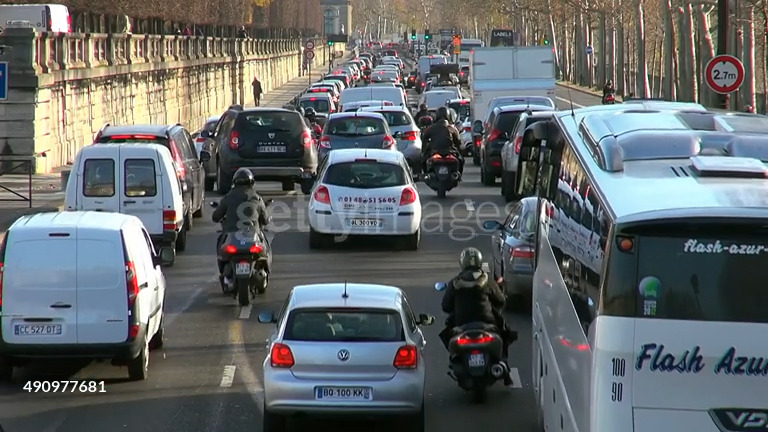car_number: (315, 387, 372, 400), (14, 324, 62, 335), (257, 145, 287, 153), (349, 219, 381, 226)
